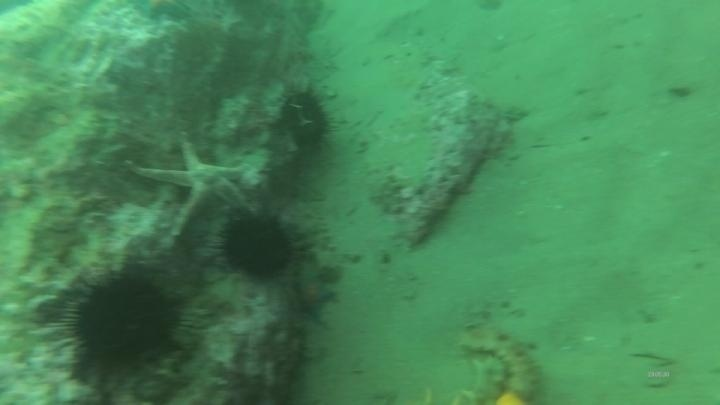echinus: (52, 263, 192, 381), (214, 207, 302, 284), (274, 82, 340, 154)
holothurian: (457, 321, 546, 404), (288, 201, 338, 261)
starfish: (126, 139, 251, 261), (292, 265, 340, 324), (129, 0, 194, 25)
